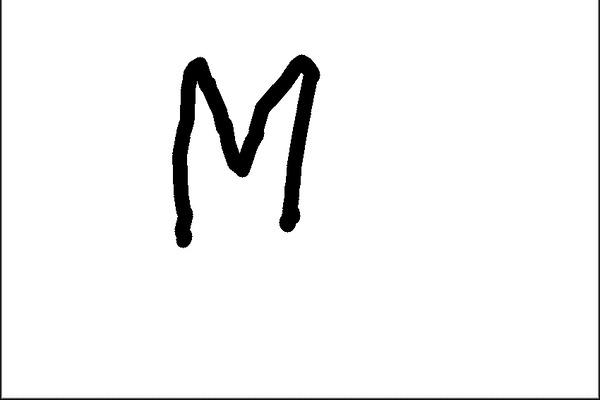M: (167, 52, 307, 252)
